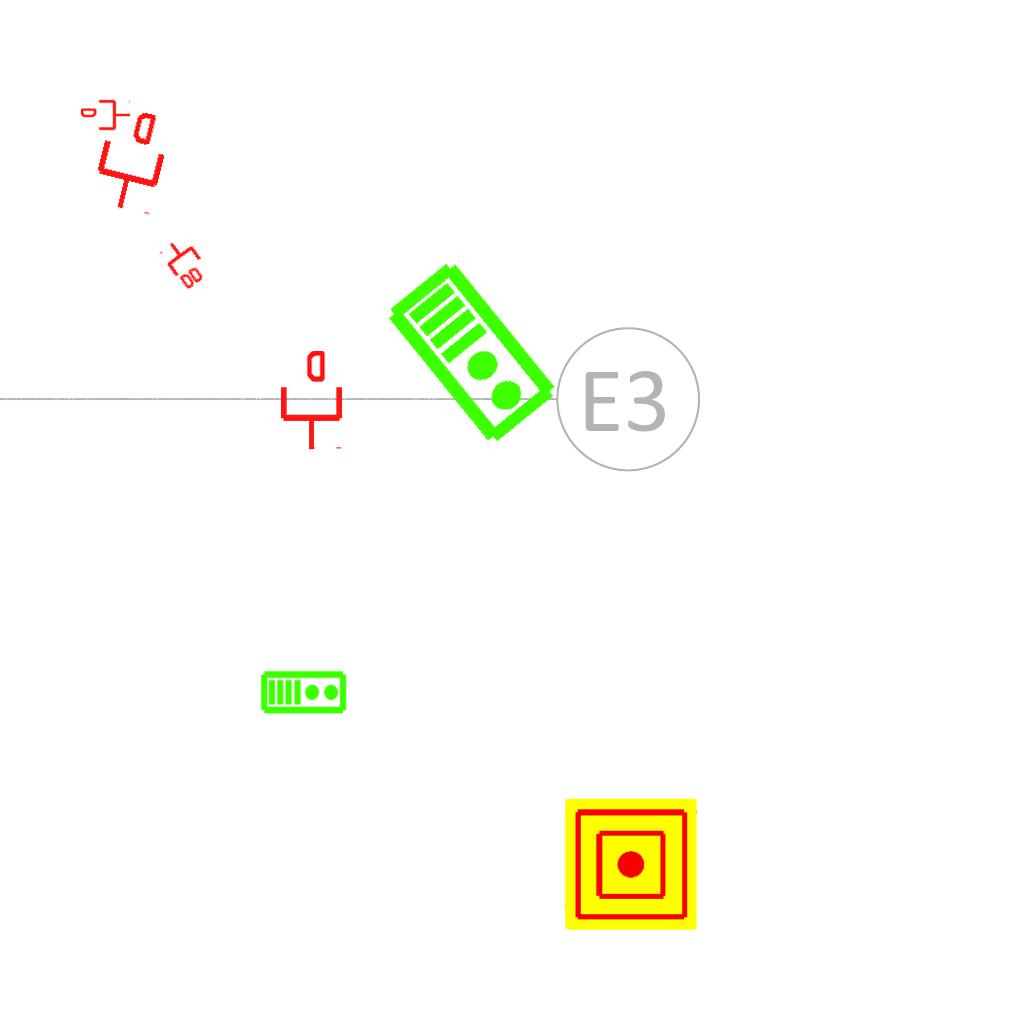Datenanschluss_einfach: (85, 104, 178, 218), (277, 351, 346, 451), (81, 98, 131, 132)
Datenanschluss_zweifach: (157, 231, 215, 294)
Gegensprechanlage_mit_Video: (381, 253, 566, 451), (260, 668, 348, 715)
NAM-Nichtautomatischer_Melder: (565, 798, 697, 930)
